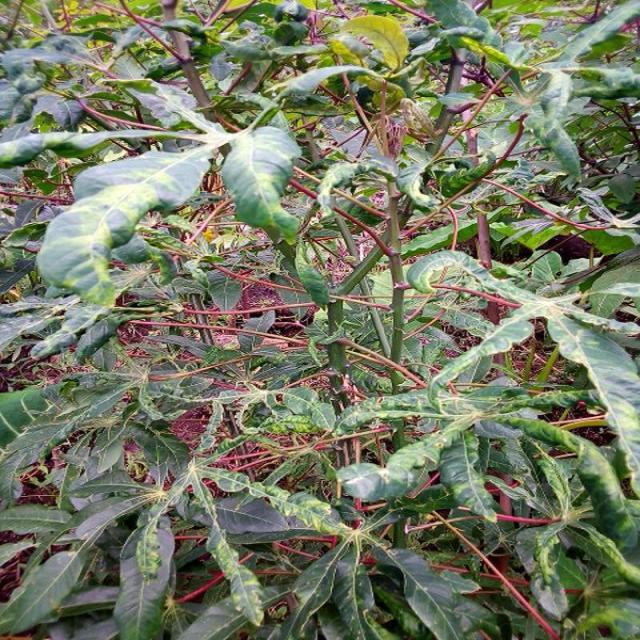cassava leaf: (2, 1, 640, 638), (37, 139, 219, 308), (221, 121, 302, 244)
